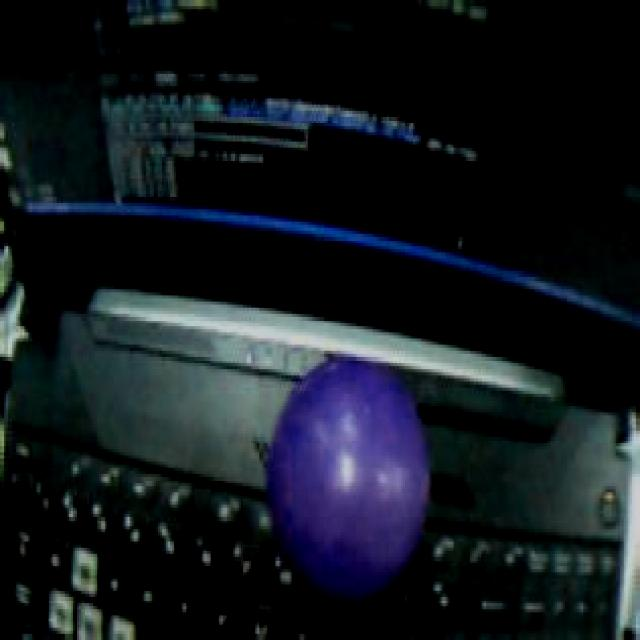BallPurple: (268, 359, 432, 602)
